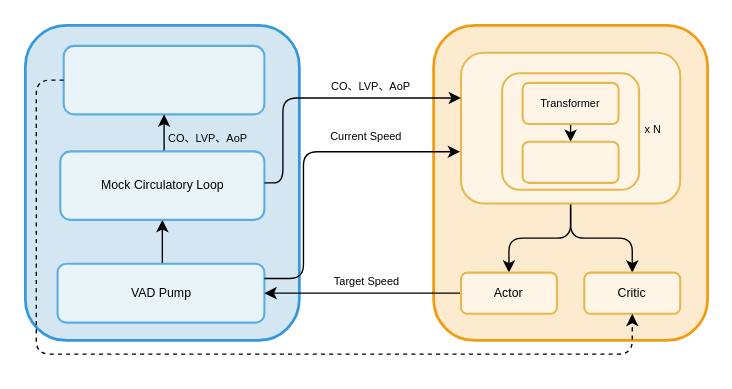
The diagram is 732 pixels wide and 389 high, and some of its shapes have lost their labels. The box of each missing label's shape, as (x1, y1, x2, y2) in pixels:
1D-CNN: (521, 140, 619, 183)
Reward Function: (62, 44, 265, 115)
